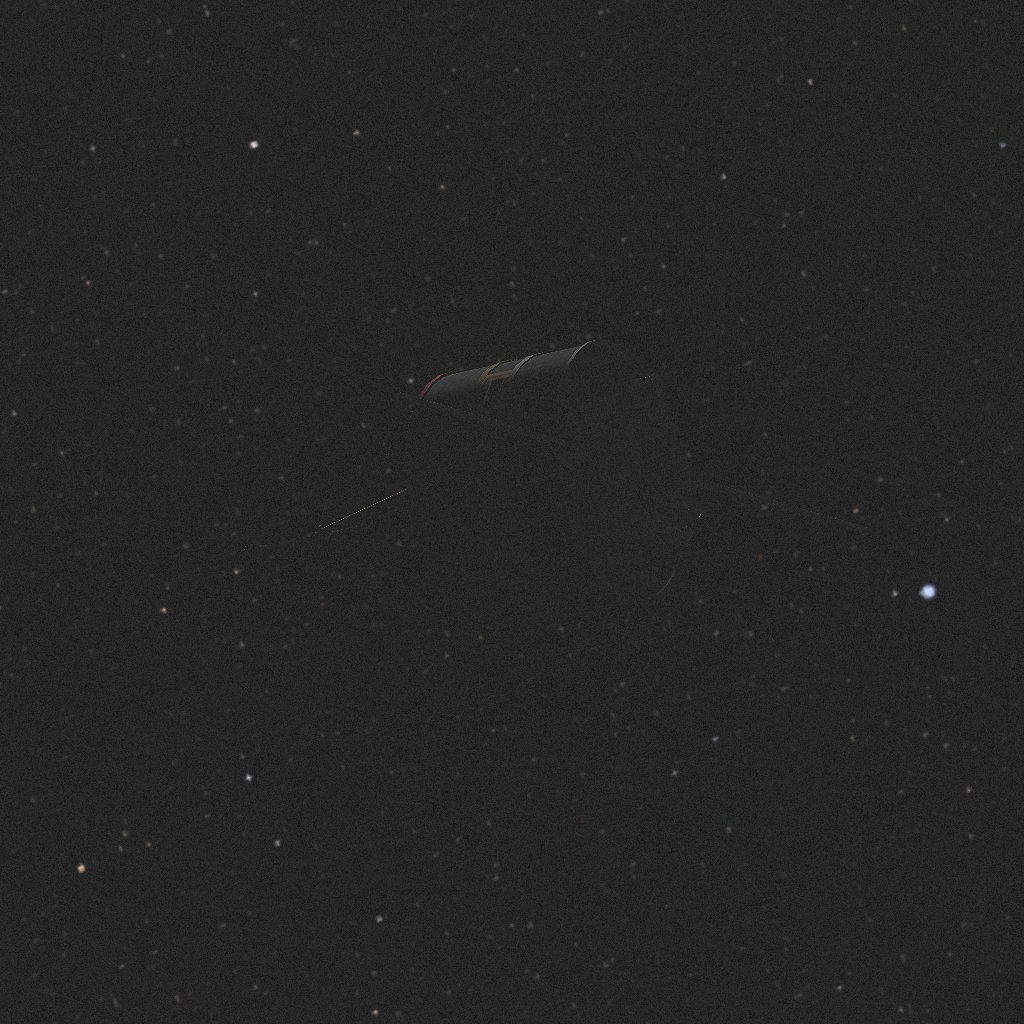double_star: (238, 339, 877, 635)
